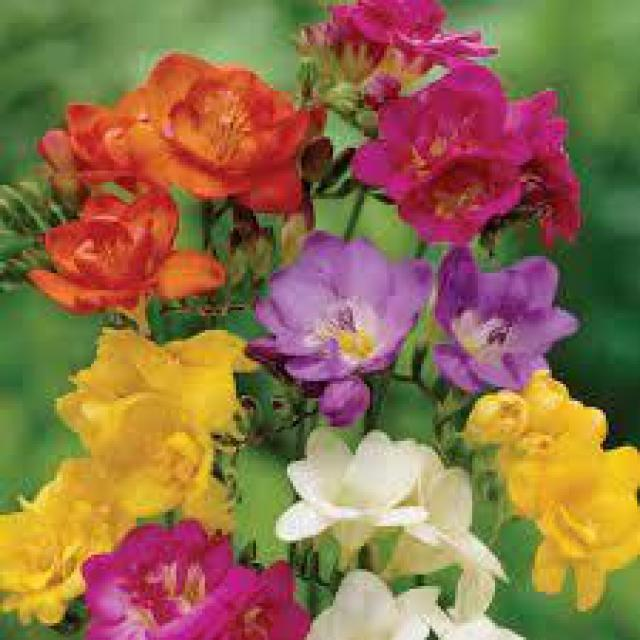freesia: (48, 328, 288, 538), (57, 38, 326, 220), (367, 62, 603, 268), (267, 433, 522, 606), (254, 219, 457, 425)
